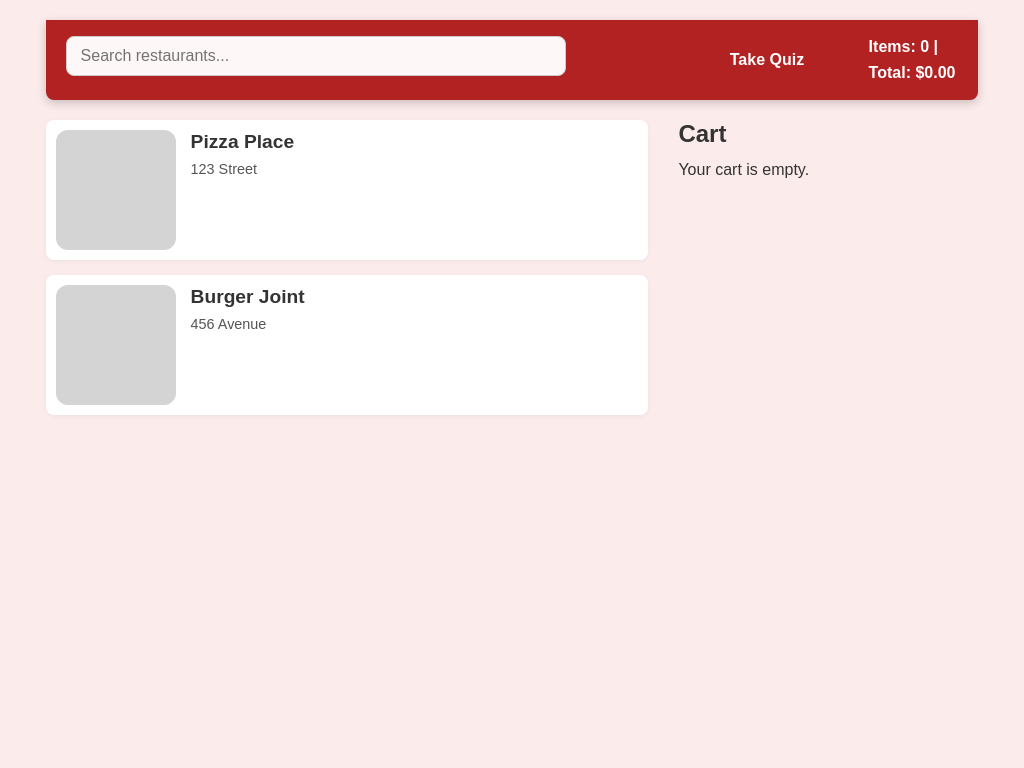
Test: Browse Component - coverage tests › clicking restaurant shows menu items
Step 1. Click the heading "Pizza Place" → [242, 142], box [191,131,294,152]
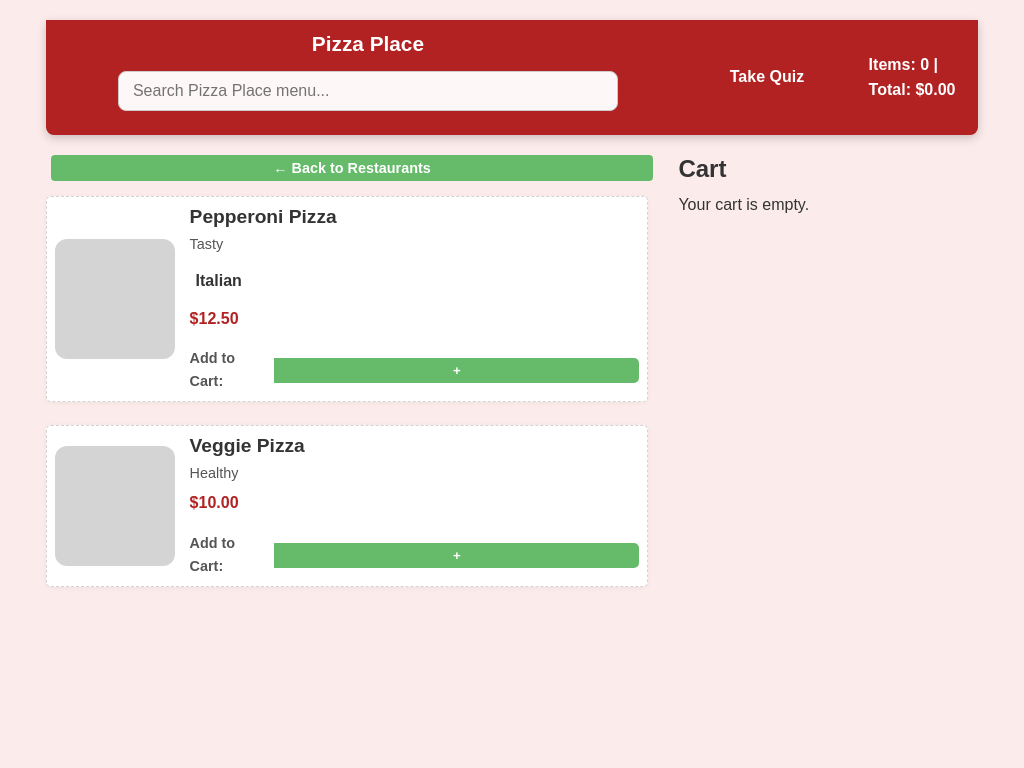
Check: the heading "Pepperoni Pizza" is shown, box [190,206,337,227]
Check: the heading "Veggie Pizza" is shown, box [190,435,305,456]
